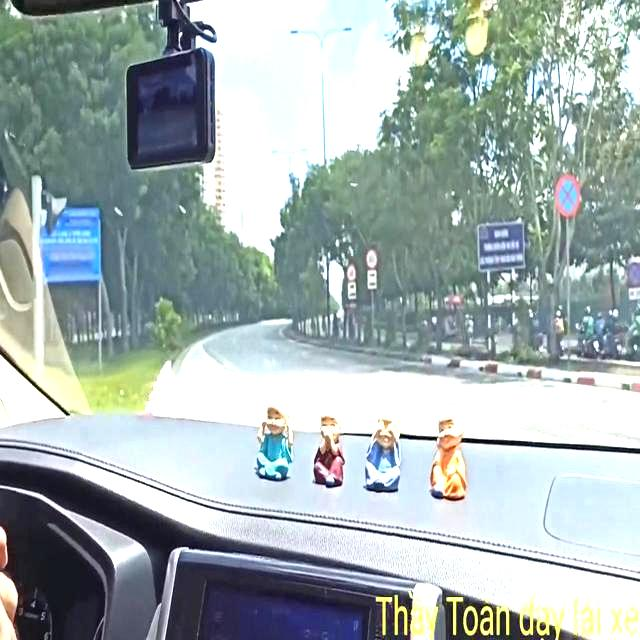Biển phụ: (366, 266, 377, 289), (347, 280, 357, 297)
Cấm dừng - Cấm đỗ: (555, 170, 579, 220), (626, 258, 638, 286)
Giới hạn tốc độ 60Km/h: (345, 263, 359, 281)
Giới hạn tốc độ 80Km/h: (366, 247, 378, 267)
Khác: (35, 197, 102, 289), (475, 217, 526, 271)
